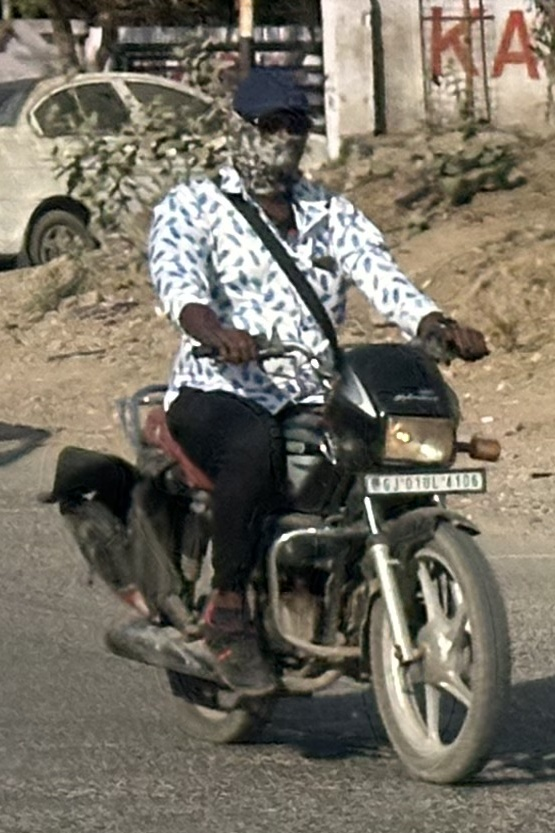BikeWithRider: (60, 62, 515, 784)
NoHelmet: (227, 66, 317, 202)
